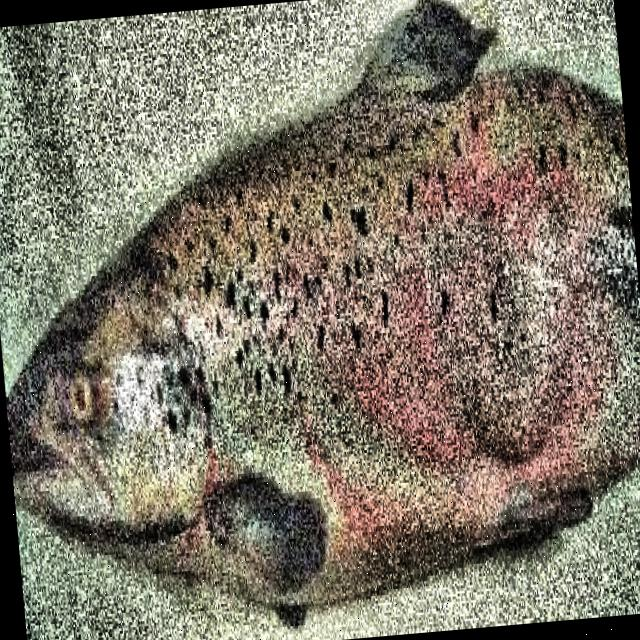mild_red: (312, 81, 625, 489), (303, 421, 426, 547)
